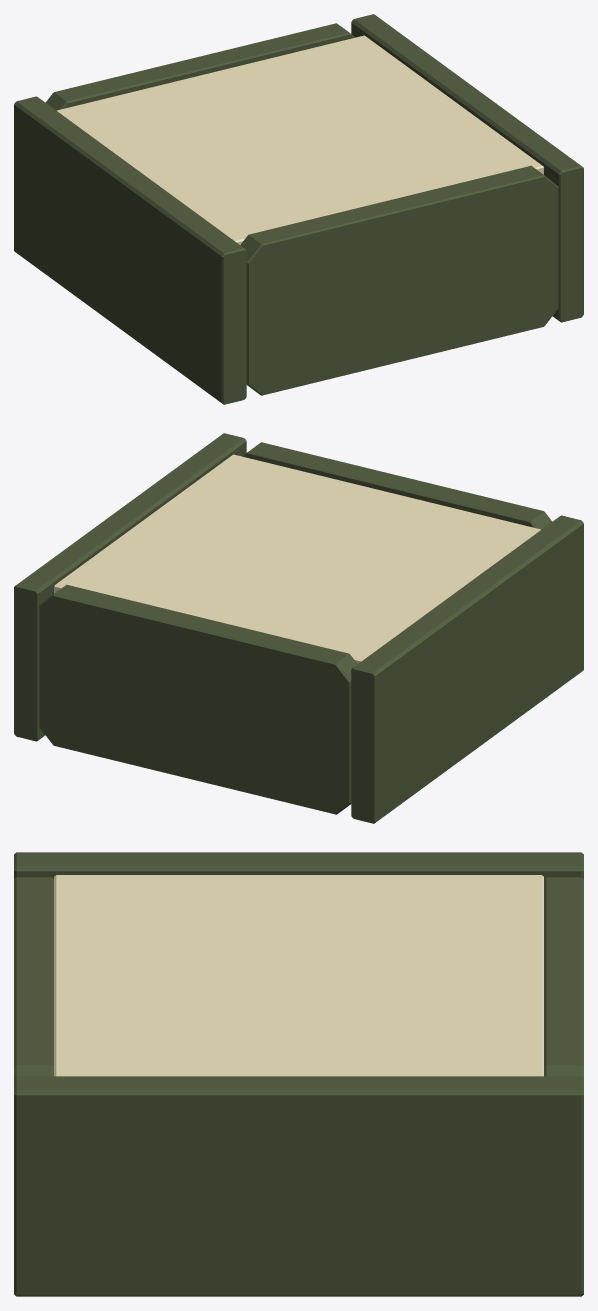
Rendered from fixture_13_toy_cubby_shelf.glb.
3 renders of one model, top to bottom at view 1: azimuth 30°, elevation 25°; view 2: azimuth 150°, elevation 25°; view 3: azimuth 270°, elevation 25°, orthographic. The views are drawn at different scales.
Visible parts, largest first — view 1: fixture_13_toy_cubby_shelf; view 2: fixture_13_toy_cubby_shelf; view 3: fixture_13_toy_cubby_shelf.
Boxes of the visible parts, x1=… form: fixture_13_toy_cubby_shelf: x1=14, y1=14, x2=583, y2=404; fixture_13_toy_cubby_shelf: x1=14, y1=433, x2=583, y2=823; fixture_13_toy_cubby_shelf: x1=14, y1=852, x2=583, y2=1296.
Size of what is drawn, in the model's own units: 1 by 0.4 by 1.
